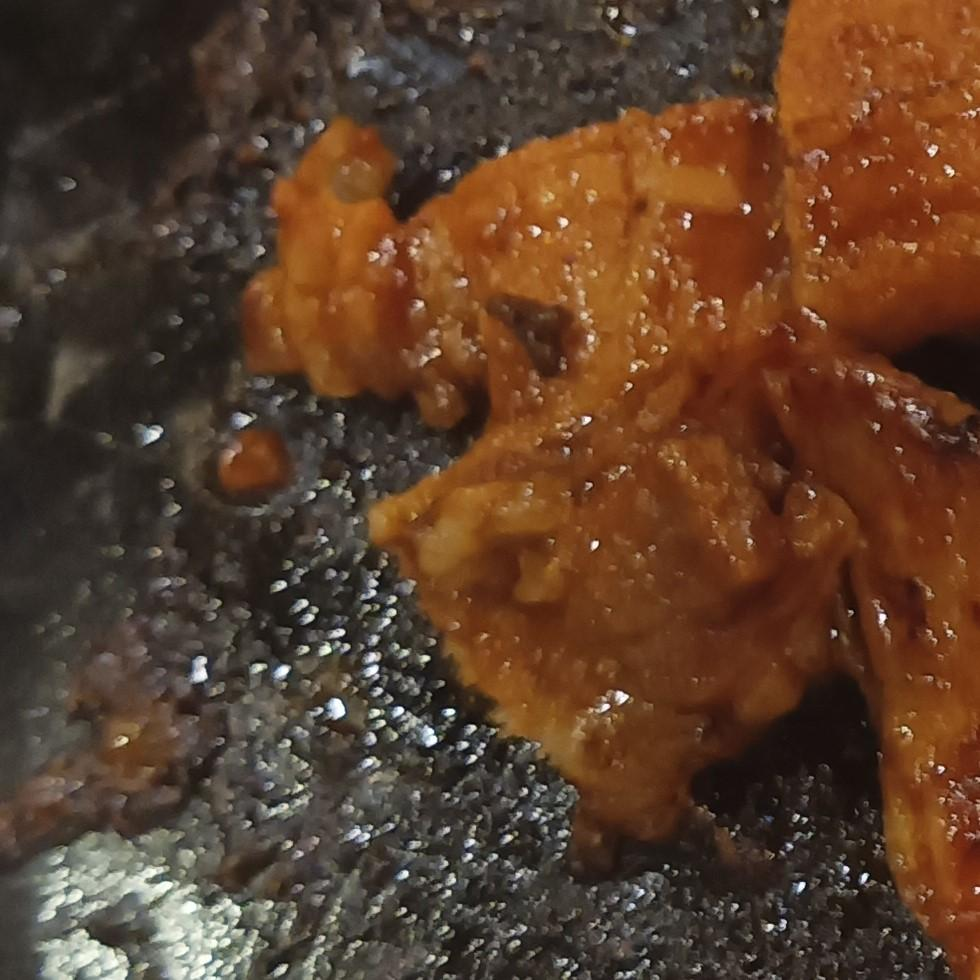Well-Cooked: (242, 0, 979, 880), (764, 322, 979, 979)
